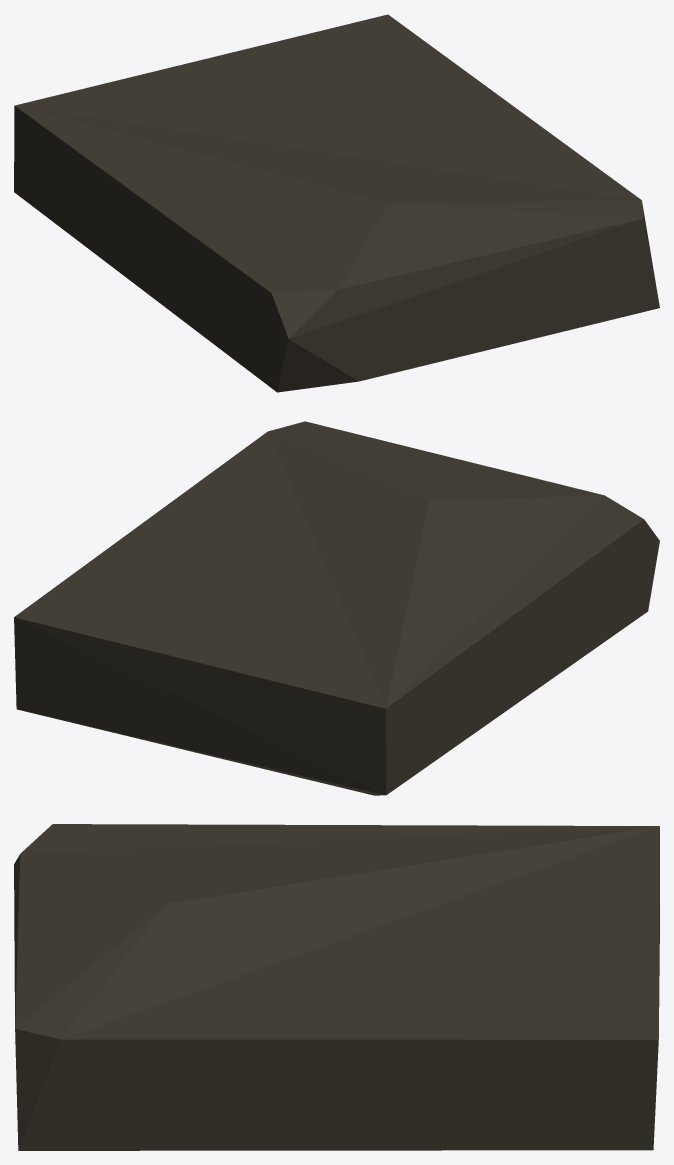
The model's file is Brick_Single_2.fbx.
3 renders of one model, top to bottom at view 1: azimuth 30°, elevation 25°; view 2: azimuth 150°, elevation 25°; view 3: azimuth 270°, elevation 25°, orthographic. The views are drawn at different scales.
Parts seen in each view (by area): view 1: Group40266; view 2: Group40266; view 3: Group40266.
Part boxes in pixels (x1=…): Group40266: x1=14, y1=14, x2=659, y2=392; Group40266: x1=14, y1=421, x2=659, y2=795; Group40266: x1=14, y1=824, x2=659, y2=1150.
Size of the model in its own units: 1.81 by 0.5104 by 2.3.
